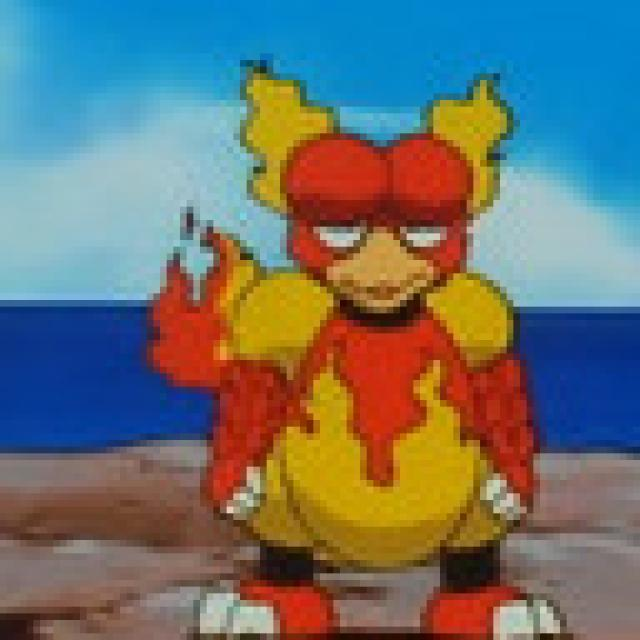Magmar: (152, 78, 570, 639)
